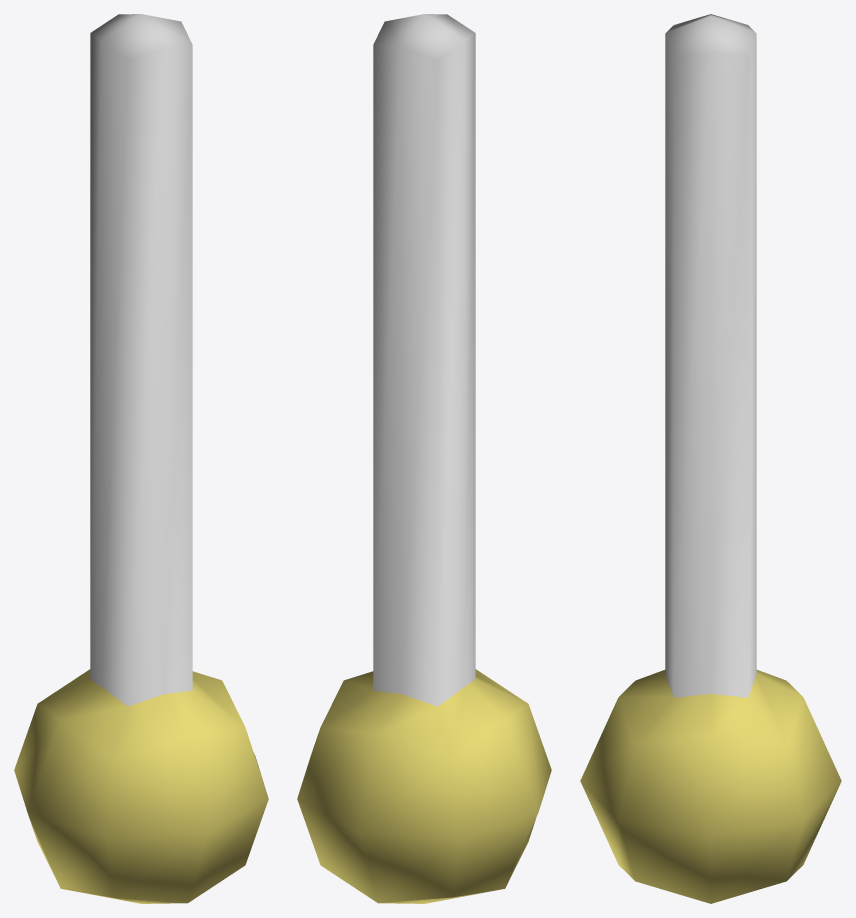
File: Lightbulb.fbx
3 views of the same model, side by side, from view 1: azimuth 30°, elevation 25°; view 2: azimuth 150°, elevation 25°; view 3: azimuth 270°, elevation 25° (orthographic).
Parts seen in each view (by area): view 1: Lightbulb; view 2: Lightbulb; view 3: Lightbulb.
Part boxes in pixels (<box>): Lightbulb: <box>14,14,268,903</box>; Lightbulb: <box>297,14,551,903</box>; Lightbulb: <box>580,14,841,903</box>.
Bounding box in the file's own units: 0.2134 × 0.7952 × 0.2134.
